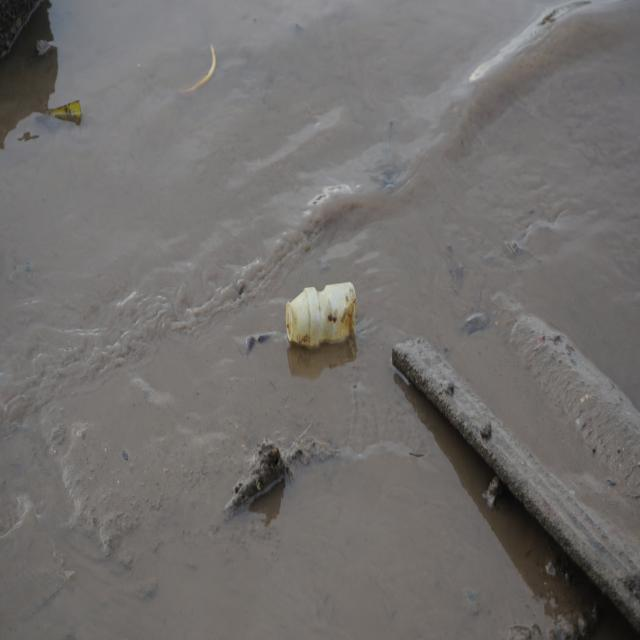Bungkus Minuman: (287, 274, 361, 355)
